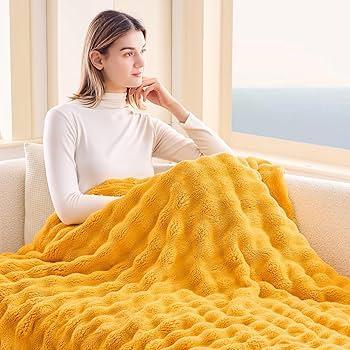blanket: (0, 151, 350, 350)
long sleeve shirt: (40, 90, 237, 226)
